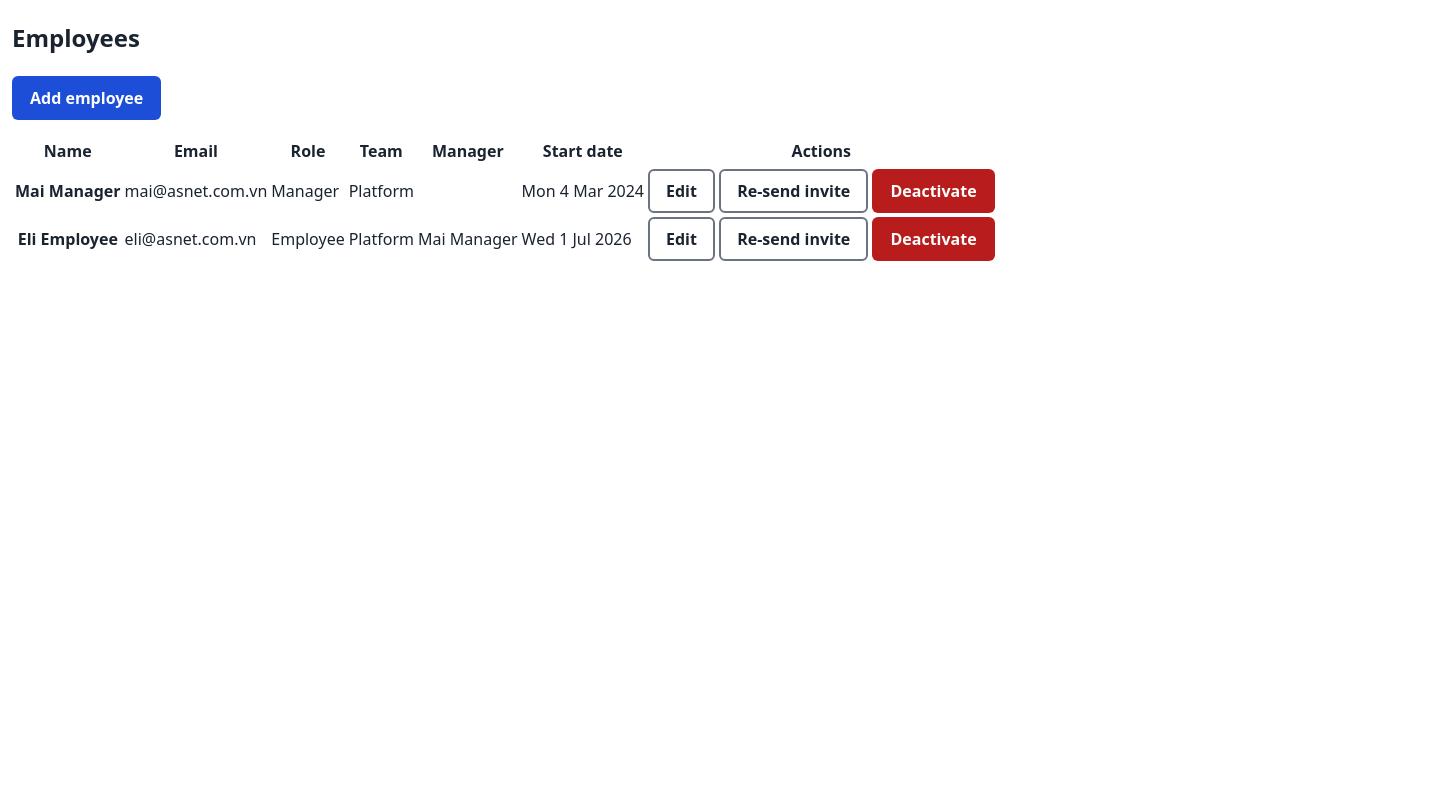
Scenario: EmployeesPage (R23) › re-sends an invite
This screenshot has width=1452, height=810.
Click the button with aria-label "Re-send invite to Eli Employee".
click(794, 239)  # box x1=719 y1=217 x2=868 y2=261
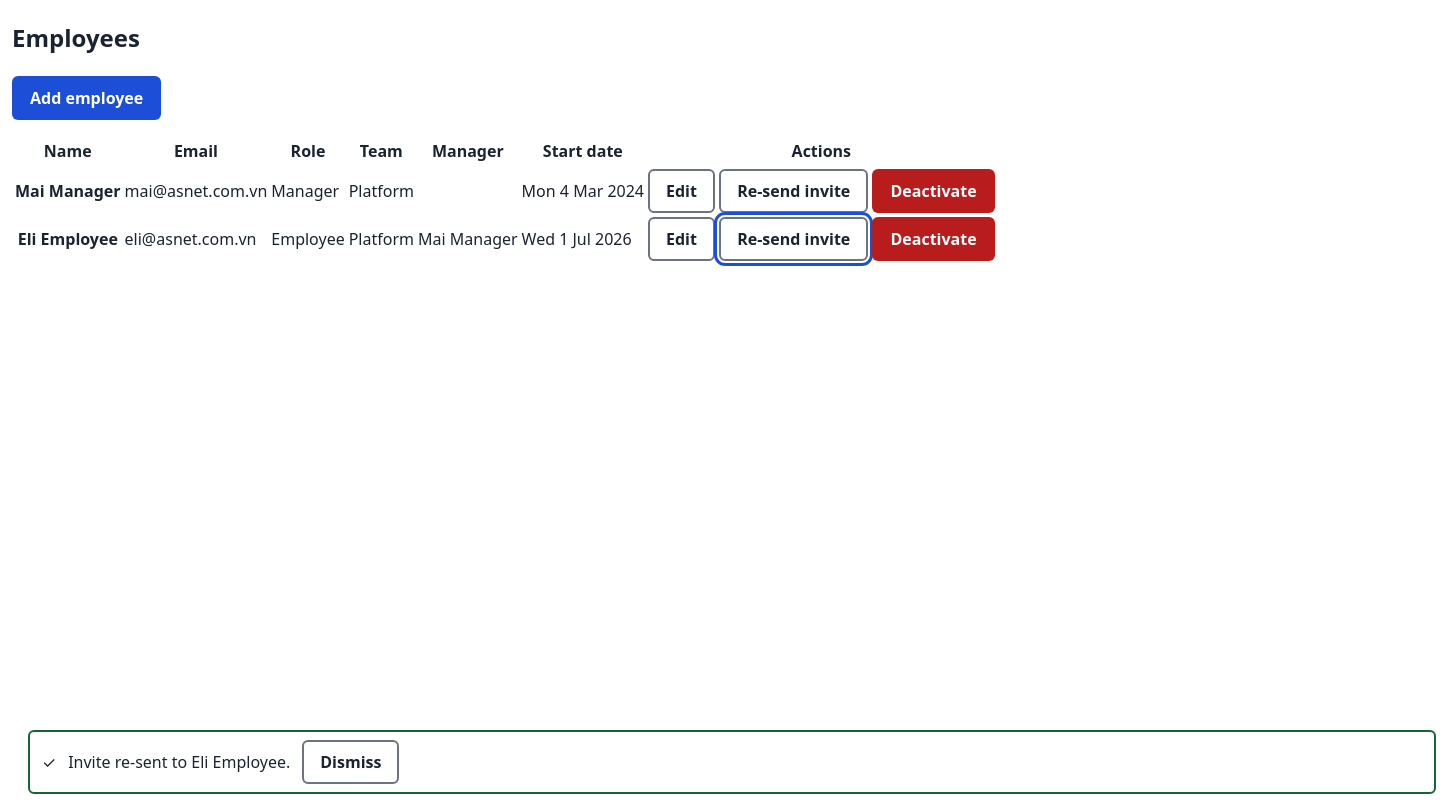
expect the text "Invite re-sent to Eli Employee." is shown: met, box x1=68 y1=750 x2=290 y2=774
